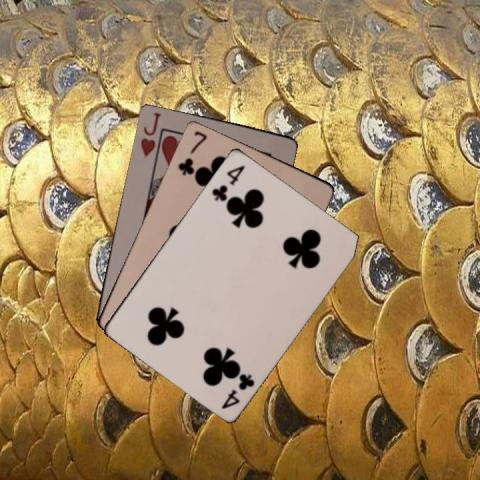4c: (208, 161, 246, 203), (218, 370, 256, 410)
7c: (175, 127, 208, 177)
Jh: (137, 109, 163, 158)
